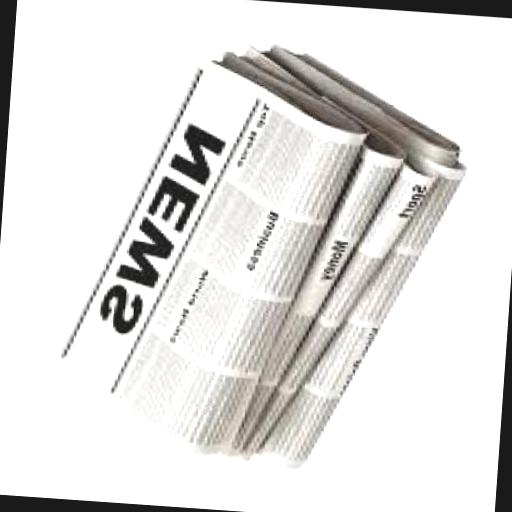paper: (34, 40, 374, 460), (252, 40, 474, 476), (211, 38, 411, 482)
